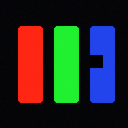1 square: (90, 55, 102, 67)
